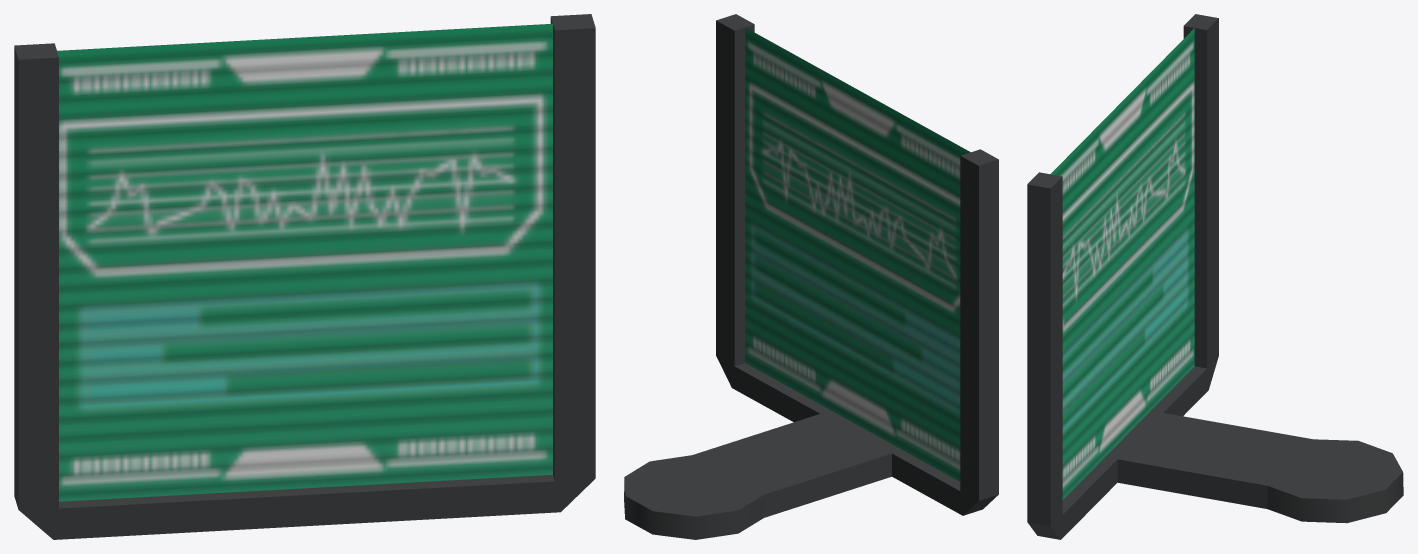
Rendered from Terminal_005_monitor_001.fbx.
3 views of the same model, side by side, from view 1: azimuth 30°, elevation 25°; view 2: azimuth 150°, elevation 25°; view 3: azimuth 270°, elevation 25° (orthographic). The views are drawn at different scales.
Visible parts, largest first — view 1: Terminal_005_monitor_001; view 2: Terminal_005_monitor_001; view 3: Terminal_005_monitor_001.
Part boxes in pixels (box(x1,y1,x2,y2)): Terminal_005_monitor_001: box(14, 14, 595, 539); Terminal_005_monitor_001: box(624, 14, 998, 539); Terminal_005_monitor_001: box(1027, 14, 1403, 539).
Bounding box in the file's own units: 34.99 × 31.9 × 33.83.
